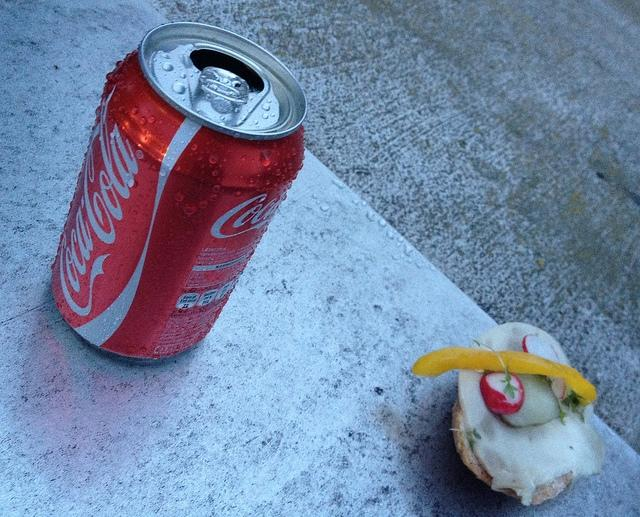bell pepper: (412, 347, 596, 406)
radish: (472, 339, 526, 414), (522, 335, 566, 399)
